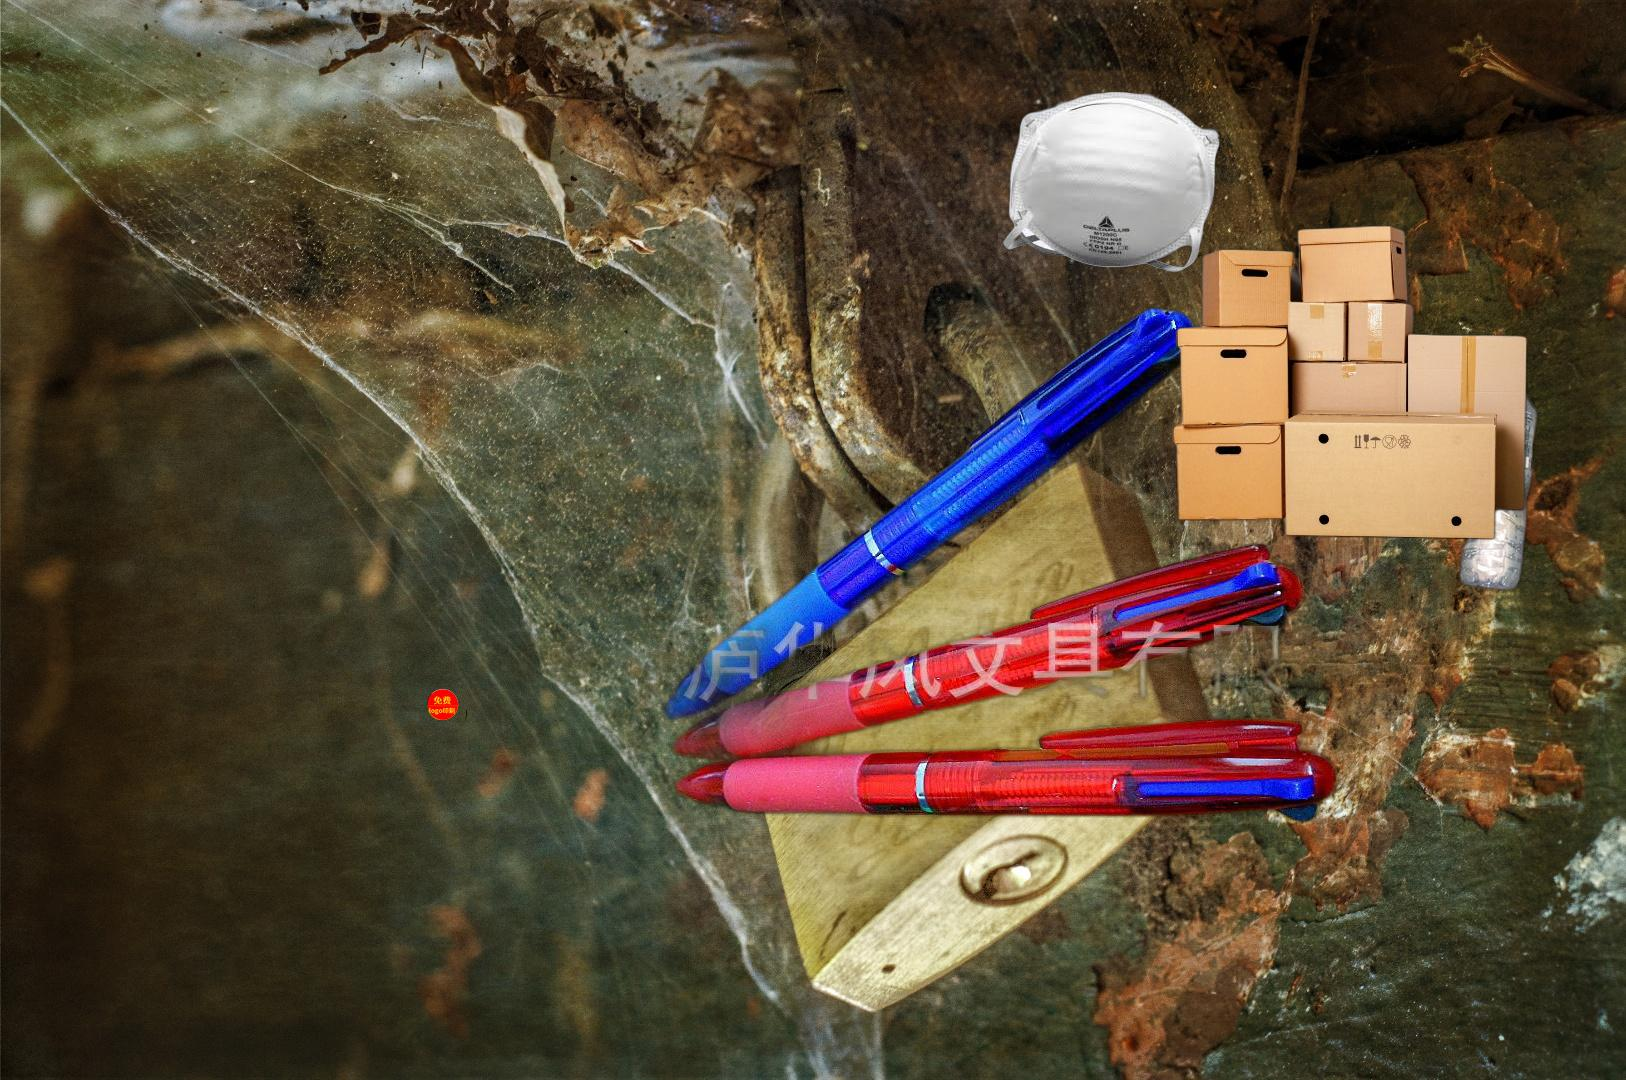penholder: (654, 301, 1348, 828), (424, 574, 573, 722)
plastic-bottles: (1454, 357, 1543, 597)
trash: (1000, 89, 1223, 275)
trashbox-cardboard: (1166, 222, 1533, 542)
